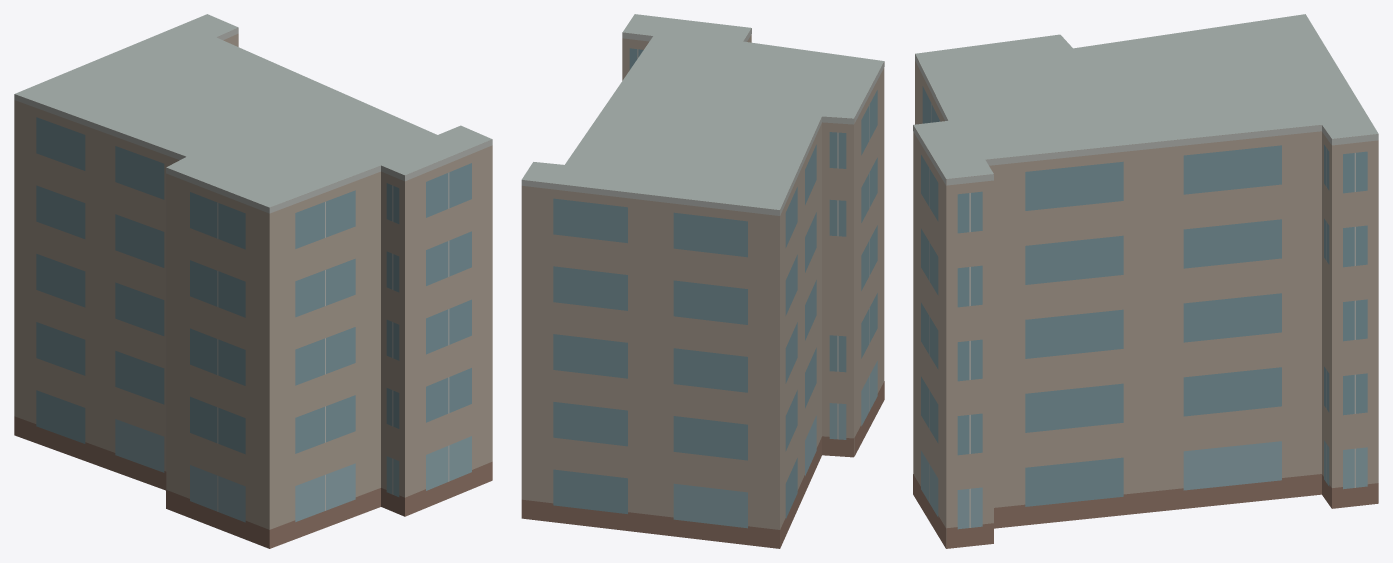
File: survey-upis-32641297.glb
3 views of the same model, side by side, from view 1: azimuth 30°, elevation 25°; view 2: azimuth 150°, elevation 25°; view 3: azimuth 270°, elevation 25° (orthographic). The views are drawn at different scales.
Visible parts, largest first — view 1: survey-upis-32641297.tmp; view 2: survey-upis-32641297.tmp; view 3: survey-upis-32641297.tmp.
Part boxes in pixels (x1,y1,x2,y2): survey-upis-32641297.tmp: [14, 14, 492, 548]; survey-upis-32641297.tmp: [521, 14, 884, 548]; survey-upis-32641297.tmp: [913, 14, 1378, 548].
Bounding box in the file's own units: 13.32 × 13.9 × 15.87.
